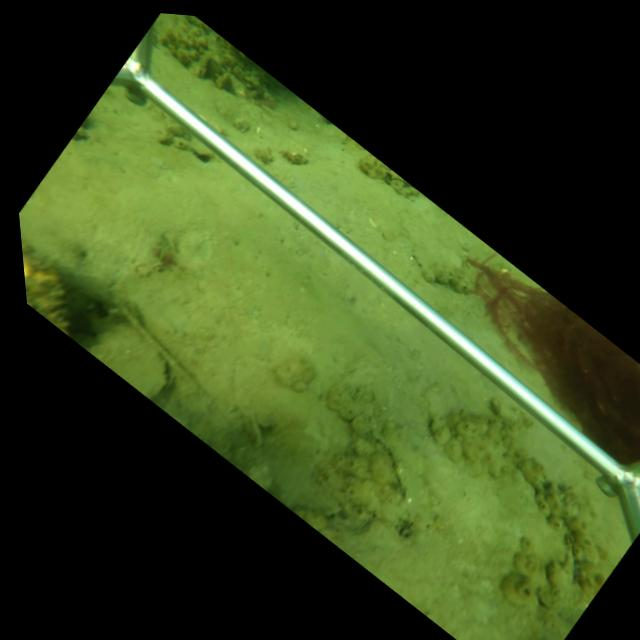Oyster-Closed: (82, 321, 177, 401)
